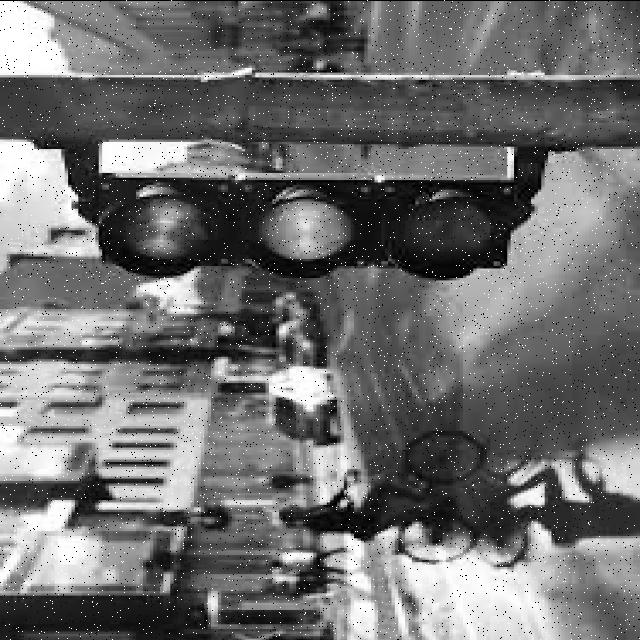red: (104, 180, 500, 264)
